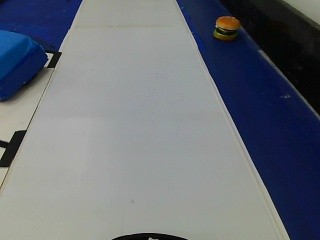burger: (211, 12, 242, 42)
